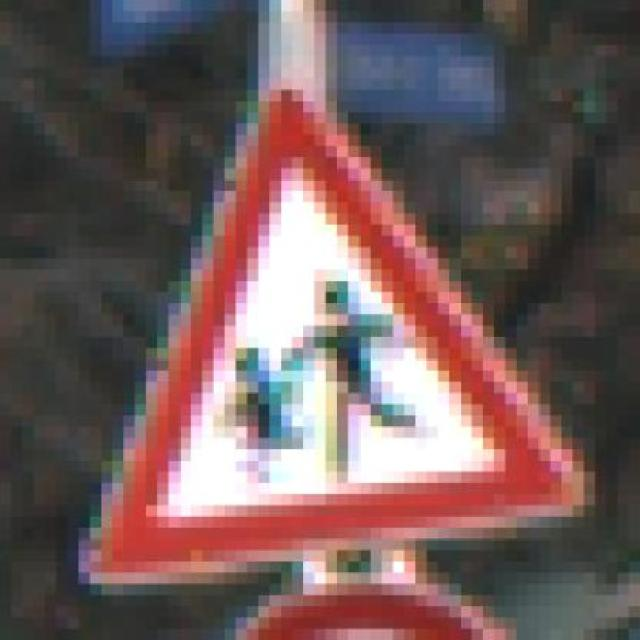Beware of children: (68, 78, 595, 584)
